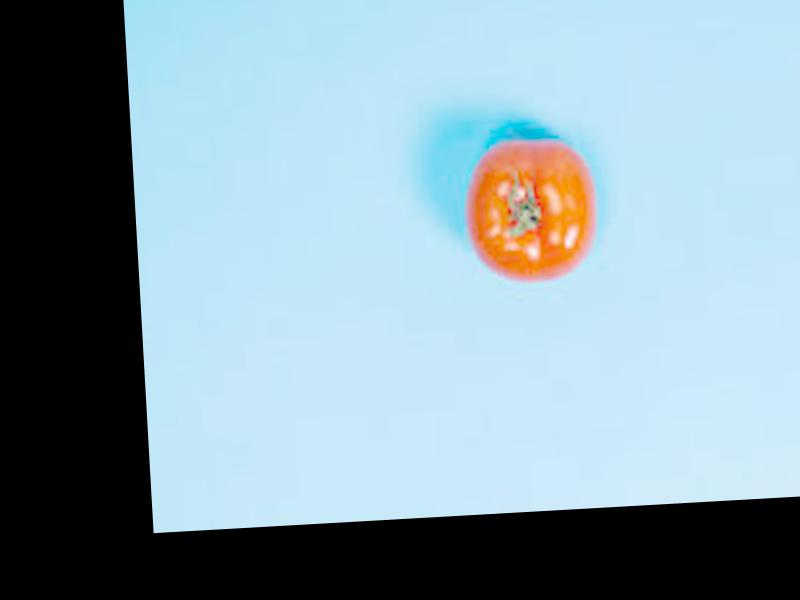Tomato: (457, 136, 599, 288)
